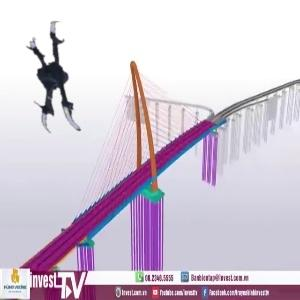drone: (10, 24, 121, 135)
